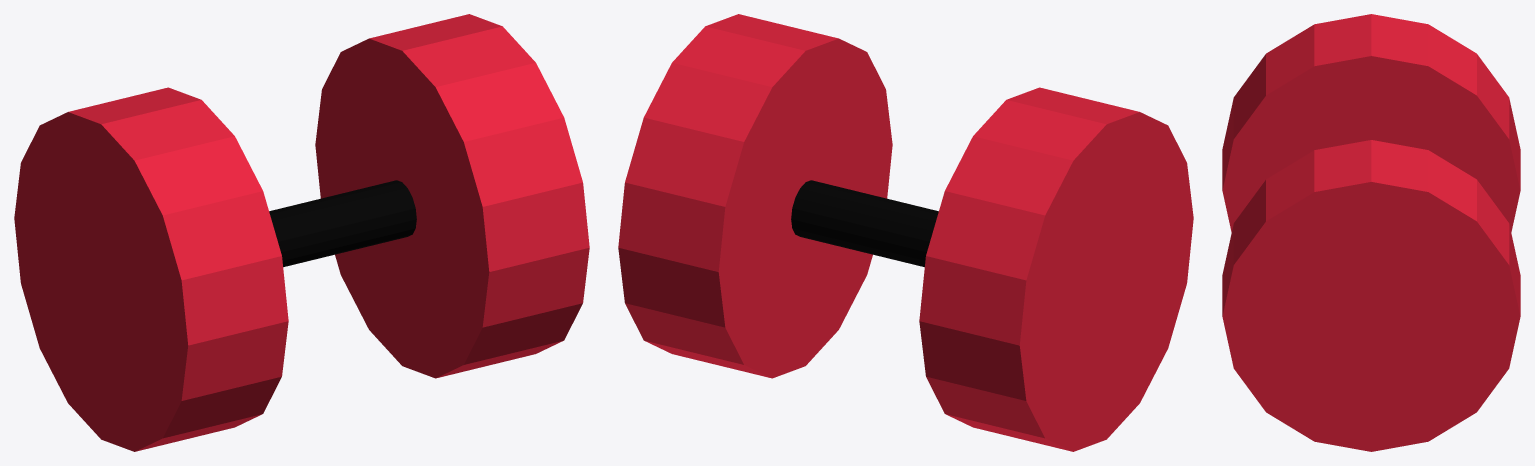
The model's file is Red Dumbbell.fbx.
3 renders of one model, left to right at view 1: azimuth 30°, elevation 25°; view 2: azimuth 150°, elevation 25°; view 3: azimuth 270°, elevation 25°, orthographic. The views are drawn at different scales.
Parts seen in each view (by area): view 1: red, red.001, handleYellow.001; view 2: red, red.001, handleYellow.001; view 3: red.001, red.
Boxes of the visible parts, x1,y1,x2,y2 form: red: (14,87,288,451); red.001: (315,14,589,378); handleYellow.001: (269,180,416,266); red: (919,87,1193,451); red.001: (618,14,892,378); handleYellow.001: (791,180,938,266); red.001: (1222,140,1520,451); red: (1222,14,1520,232).
Bounding box in the file's own units: 800 × 600 × 600.
